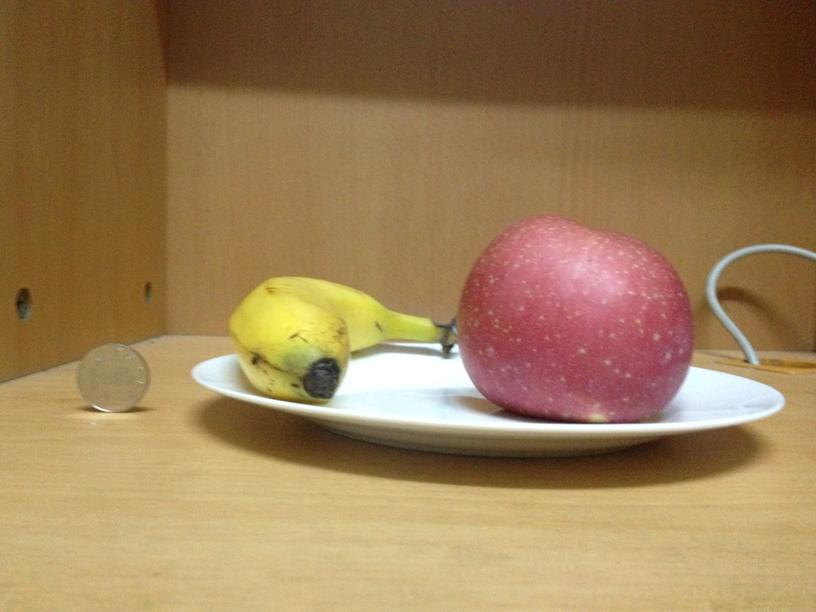apple: (463, 216, 696, 422)
banana: (230, 275, 428, 399)
coin: (75, 344, 148, 412)
